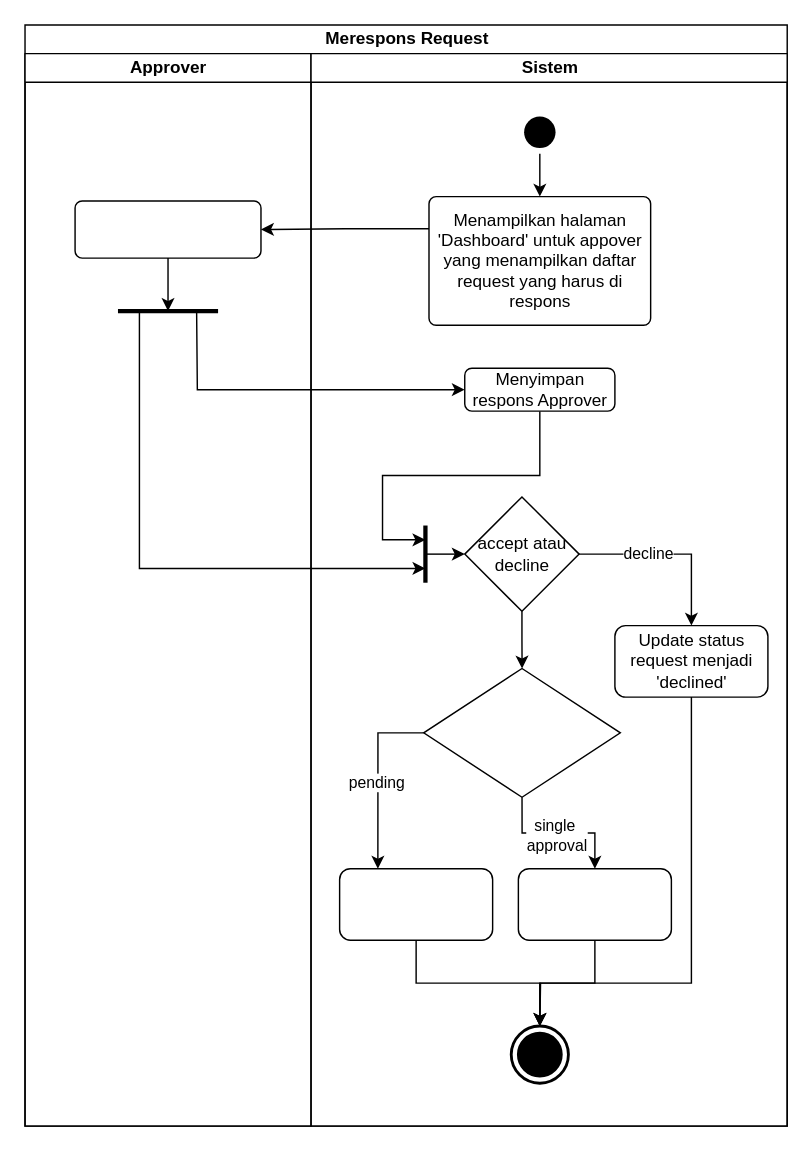
Image size: 812x1151. Some labels were removed from this diagram. The centre of each missing label's shape, as x and y in pixels:
"Menekan tombol 'Accept' atau 'Decline'" goes at (167,228).
"status request pending atau singgle approval" goes at (521,732).
"Update status request menjadi 'approved'" goes at (594,903).
"Update status request menjadi 'single approval'" goes at (415,903).
